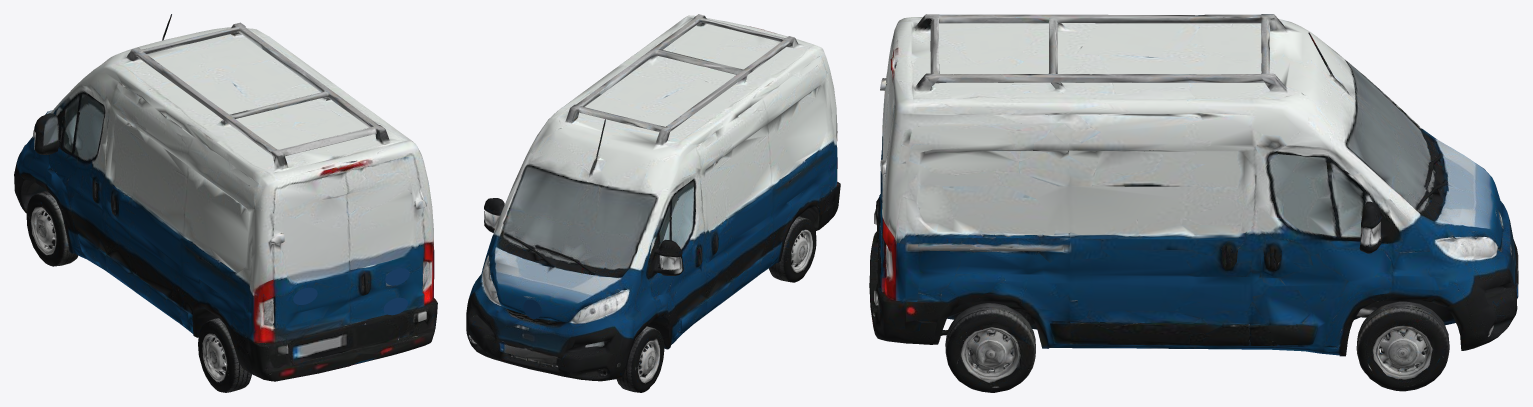
File: teleopVehVan.44a544bc.glb
The picture shows the model from 3 angles, left to right: view 1: azimuth 30°, elevation 25°; view 2: azimuth 150°, elevation 25°; view 3: azimuth 270°, elevation 25°; orthographic projection. The views are drawn at different scales.
Bounding box in the file's own units: 0.9098 × 1 × 1.9.
Materials: 5 (1 with a texture image).
